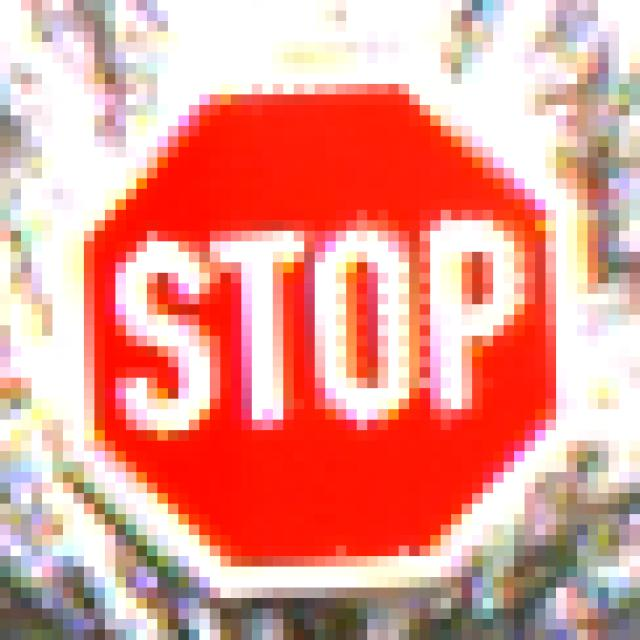STOP: (54, 54, 589, 589)
